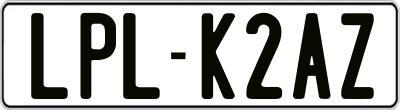2: (244, 12, 282, 101)
A: (291, 10, 330, 100)
K: (201, 10, 235, 101)
L: (30, 11, 71, 99), (121, 12, 161, 99)
P: (80, 10, 116, 96)
Z: (340, 11, 373, 101)
